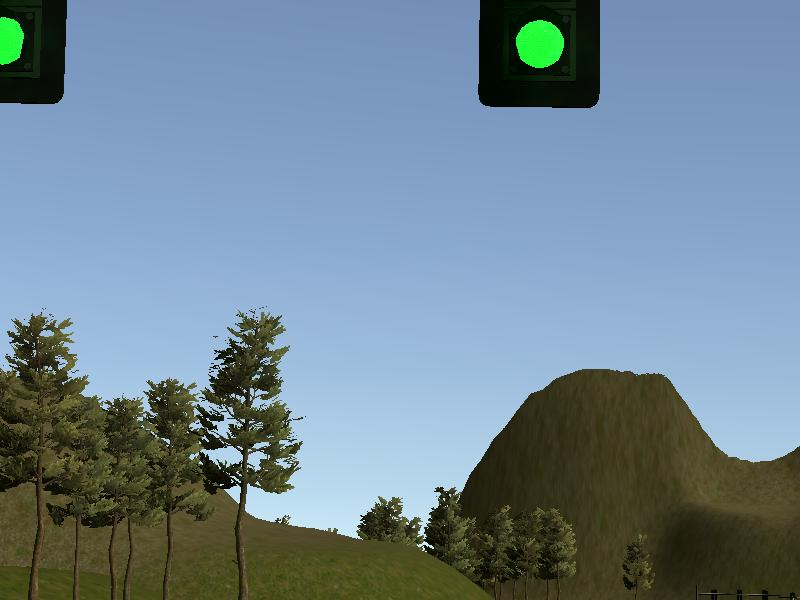green: (478, 1, 602, 109)
